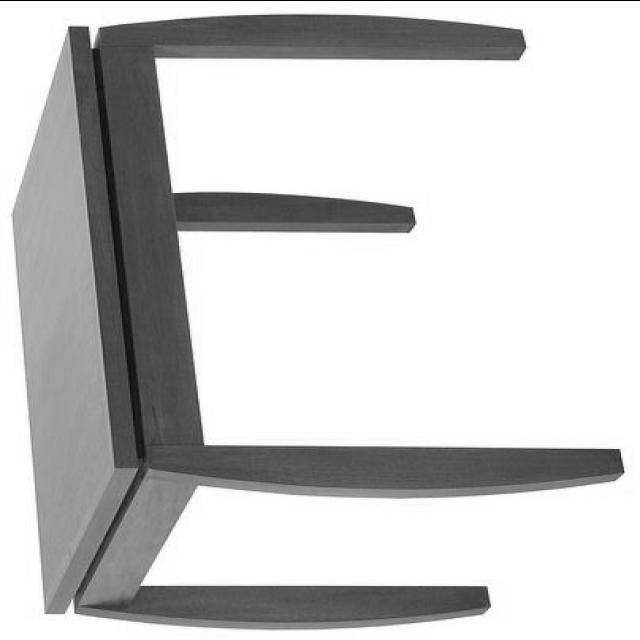table: (11, 12, 624, 628)
